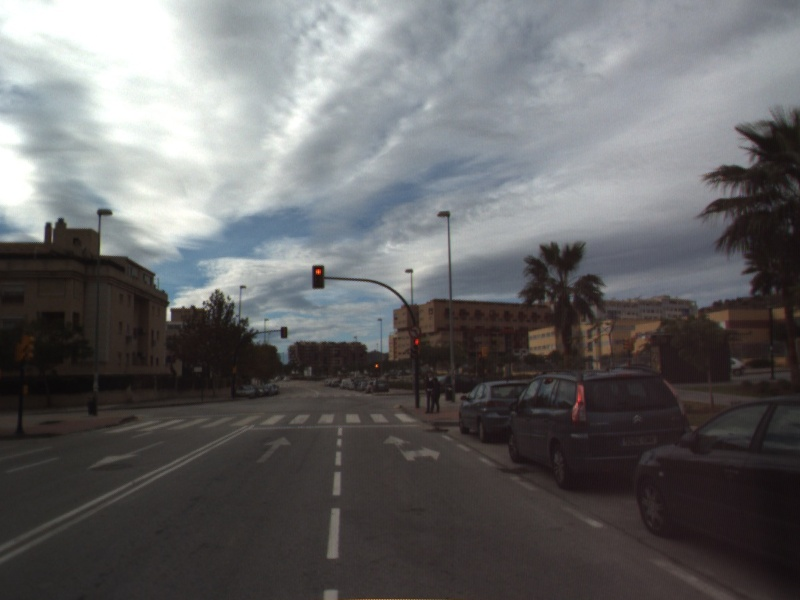STRAIGHT: (254, 434, 294, 465)
STRAIGHT_RIGHT: (381, 433, 442, 463)
